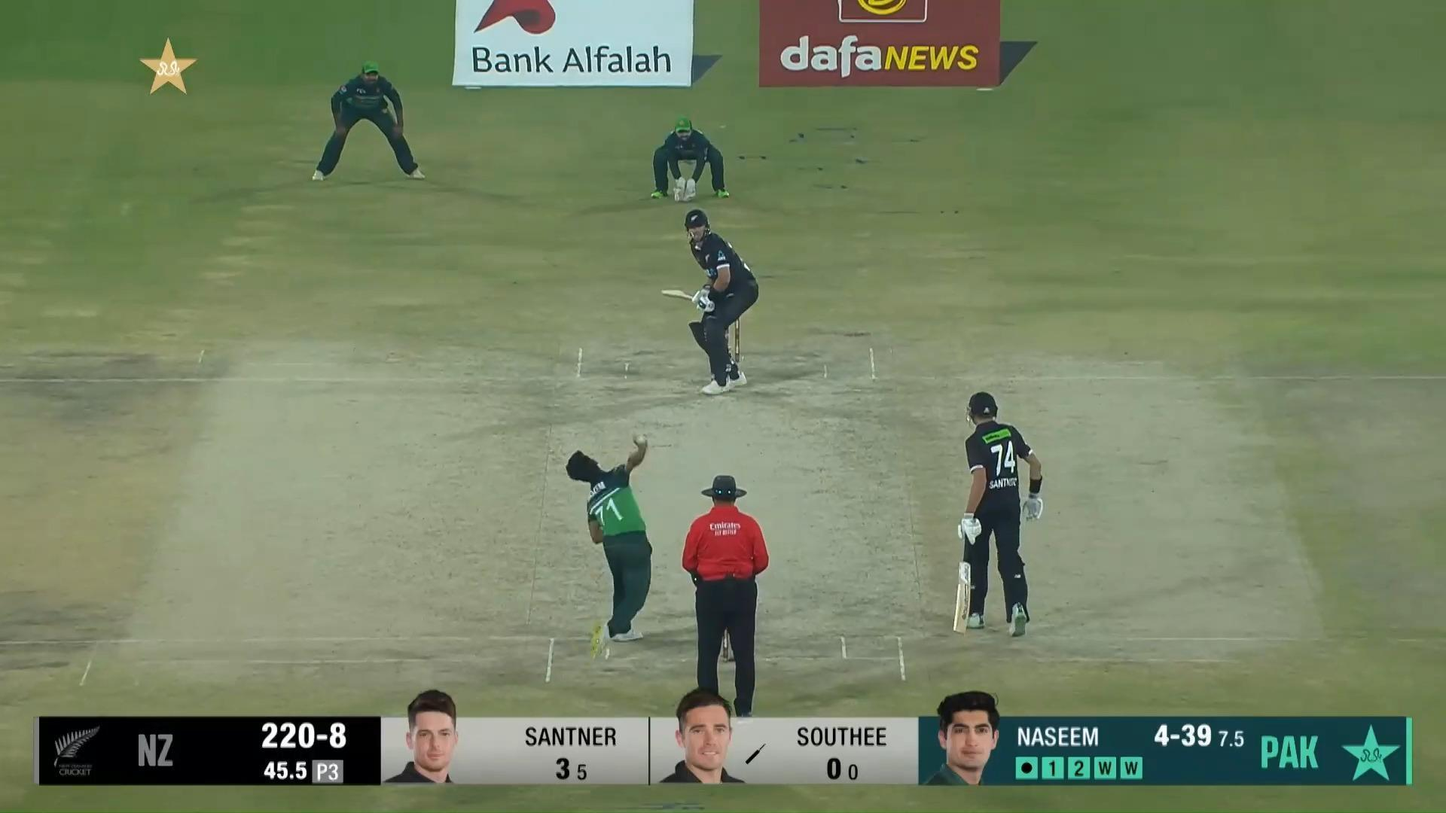BM 1: (660, 208, 759, 394)
BO: (564, 429, 654, 651)
